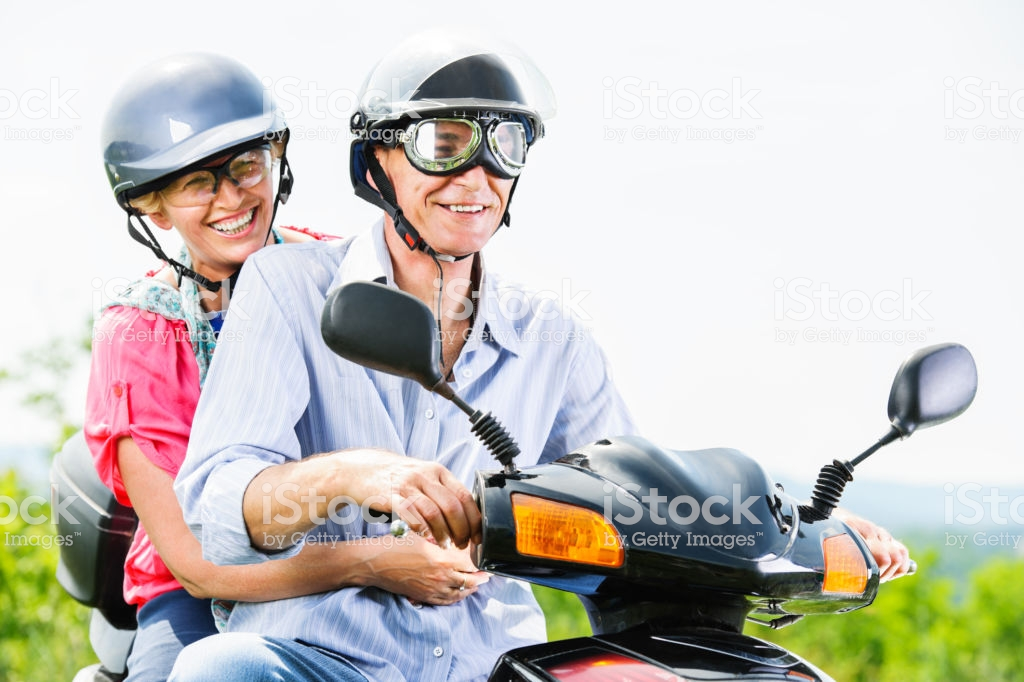helmet: (74, 56, 277, 173), (369, 32, 567, 143)
